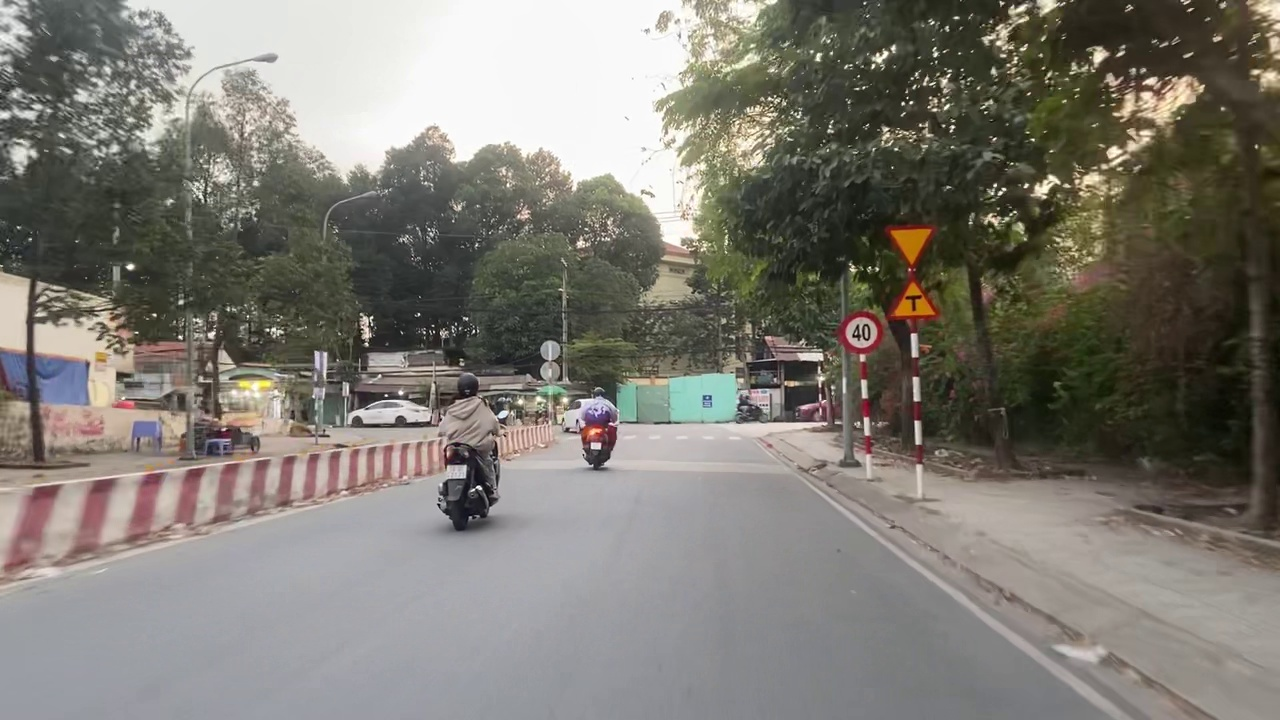gioi_han_40km: (838, 311, 884, 356)
